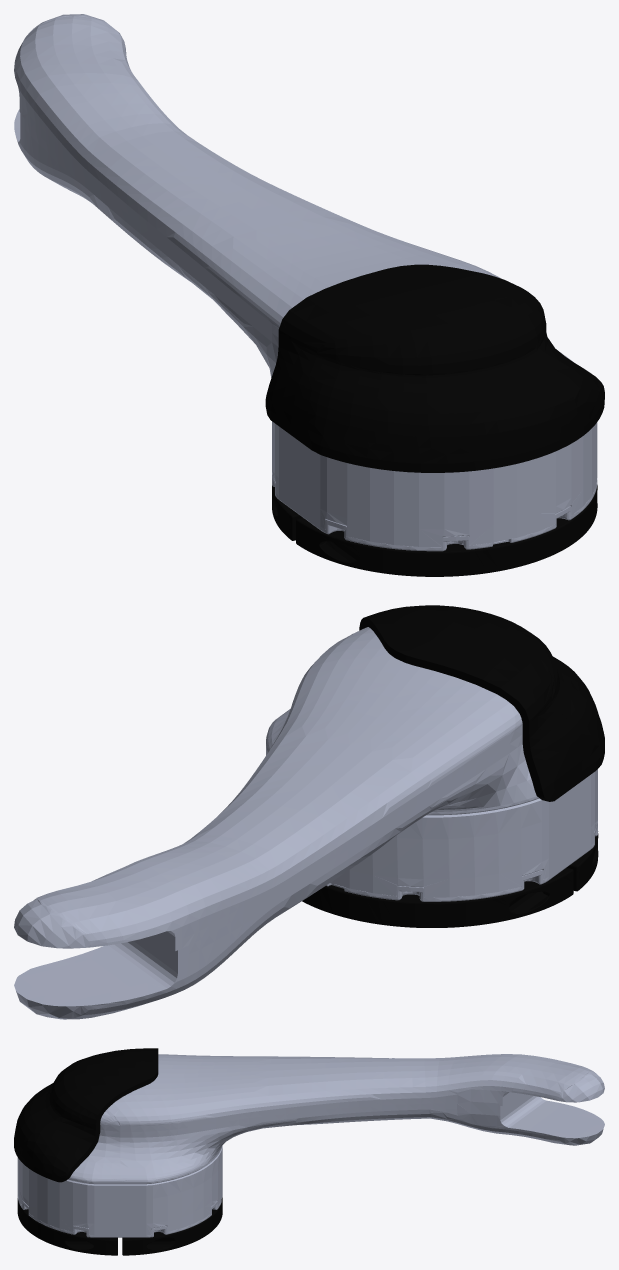
Rendered from thigh.obj.
3 views of the same model, one above another, from view 1: azimuth 30°, elevation 25°; view 2: azimuth 150°, elevation 25°; view 3: azimuth 270°, elevation 25° (orthographic). The views are drawn at different scales.
Visible parts, largest first — view 1: thigh_001-mesh_1, thigh_001-mesh; view 2: thigh_001-mesh_1, thigh_001-mesh; view 3: thigh_001-mesh_1, thigh_001-mesh.
Part boxes in pixels (x1,y1,x2,y2): thigh_001-mesh_1: (14, 14, 597, 551); thigh_001-mesh: (265, 264, 604, 576); thigh_001-mesh_1: (14, 627, 598, 1019); thigh_001-mesh: (302, 605, 604, 927); thigh_001-mesh_1: (17, 1054, 604, 1237); thigh_001-mesh: (14, 1048, 222, 1255).
Bounding box in the file's own units: 0.0969 × 0.0734 × 0.2779.
